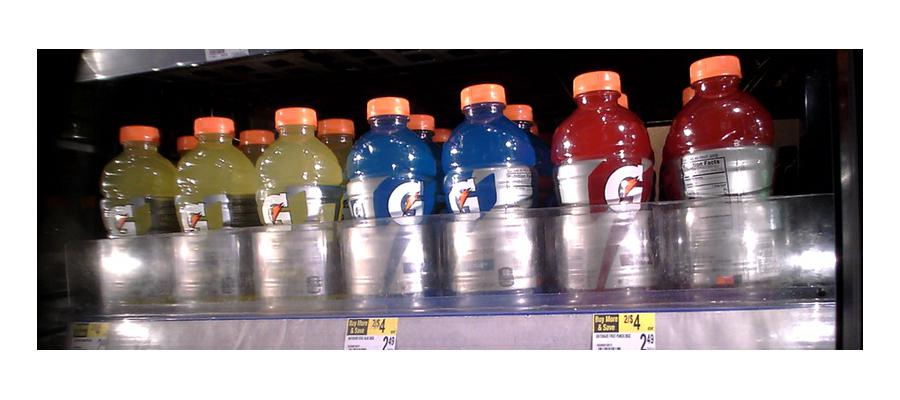bottle: (665, 59, 780, 302), (549, 71, 662, 303), (441, 85, 539, 302), (338, 98, 436, 306), (251, 107, 337, 312), (98, 120, 174, 324), (171, 115, 251, 302)
